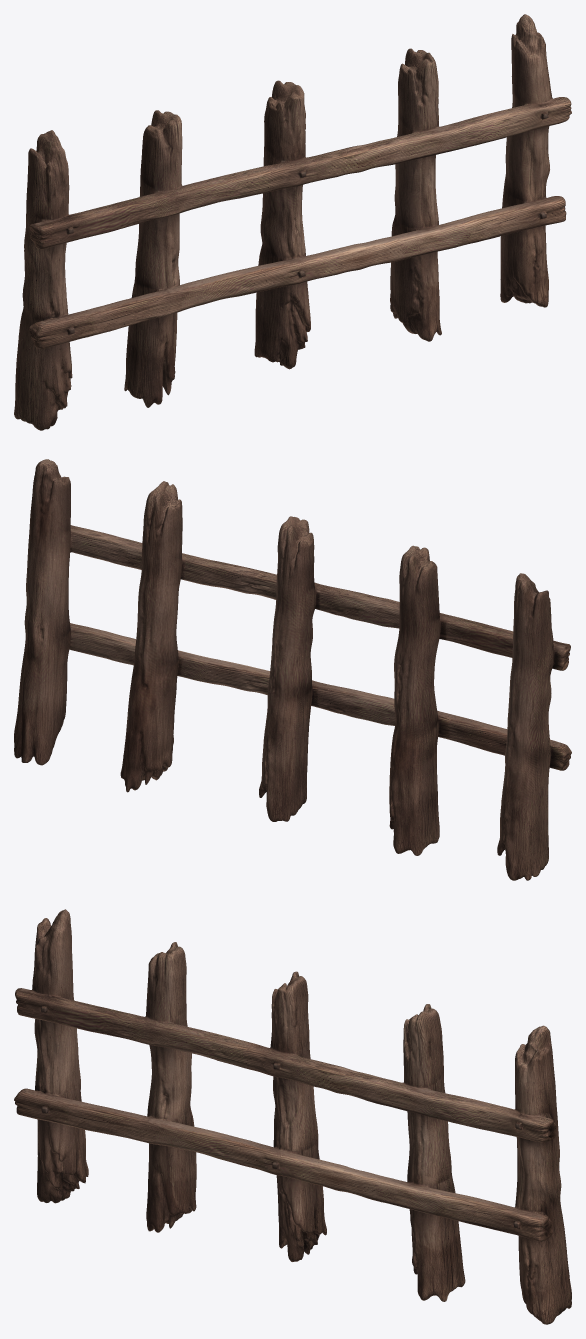
Rendered from zaun_verwittert_original.glb.
The picture shows the model from 3 angles, top to bottom: view 1: azimuth 30°, elevation 25°; view 2: azimuth 150°, elevation 25°; view 3: azimuth 330°, elevation 25°; orthographic projection.
Bounding box in the file's own units: 1.9 × 1 × 0.2531.
1 material, 1 textured.
